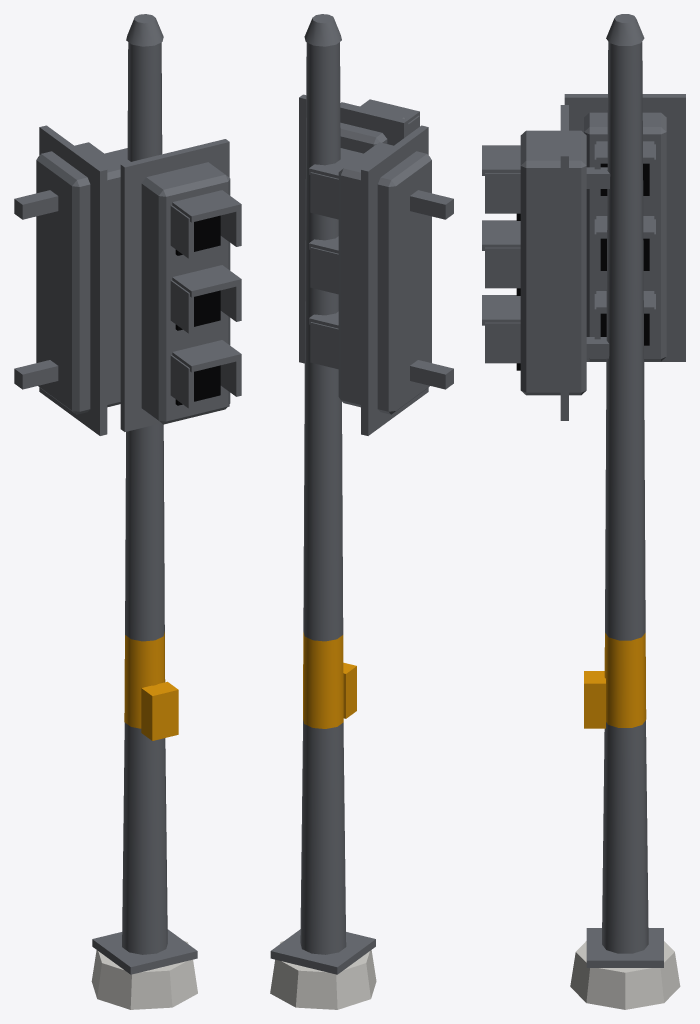
File: SM_TrafficLight.fbx
The picture shows the model from 3 angles, left to right: view 1: azimuth 30°, elevation 25°; view 2: azimuth 150°, elevation 25°; view 3: azimuth 270°, elevation 25°; orthographic projection.
Visible parts, largest first — view 1: SM_TrafficLight; view 2: SM_TrafficLight; view 3: SM_TrafficLight.
Boxes of the visible parts, x1,y1,x2,y2 form: SM_TrafficLight: (14,14,241,1009); SM_TrafficLight: (270,14,453,1009); SM_TrafficLight: (482,14,685,1009).
Bounding box in the file's own units: 75 × 388 × 74.
